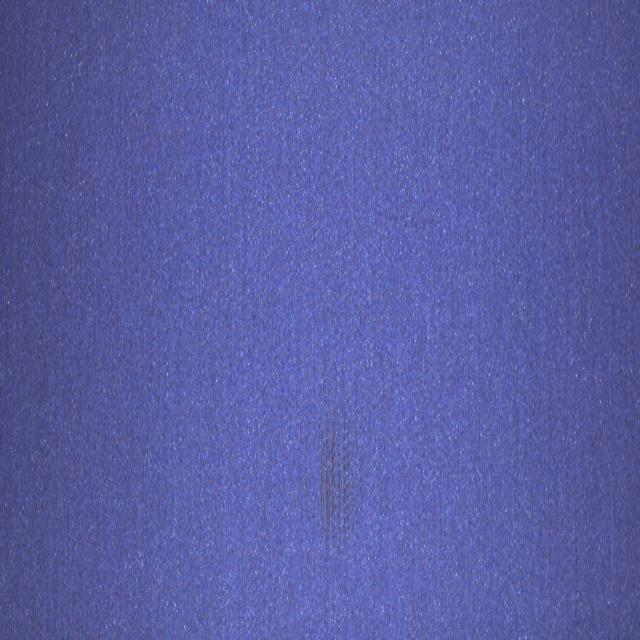stain: (306, 368, 374, 564)
